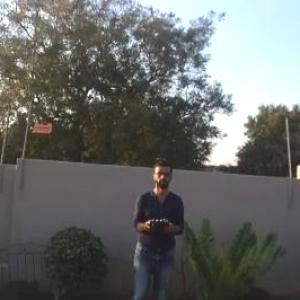follow: (126, 152, 188, 299)
